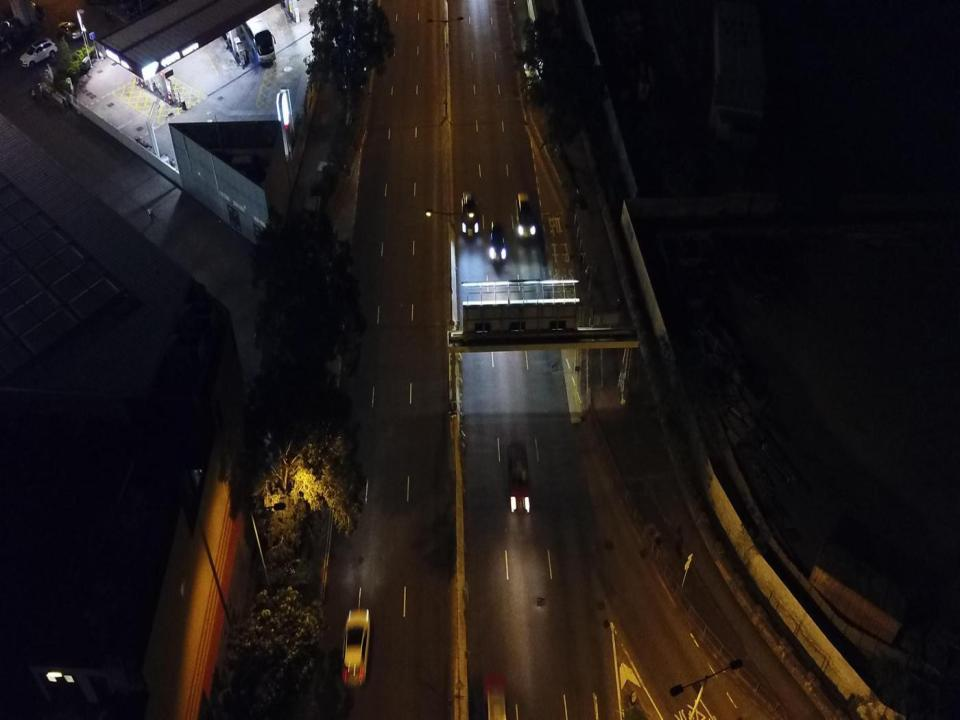bus: (236, 2, 276, 66)
car: (342, 610, 370, 682), (507, 442, 531, 514), (482, 674, 506, 719), (20, 37, 57, 66), (460, 190, 481, 237), (488, 220, 509, 265), (58, 20, 84, 39)
van: (516, 192, 538, 240)
